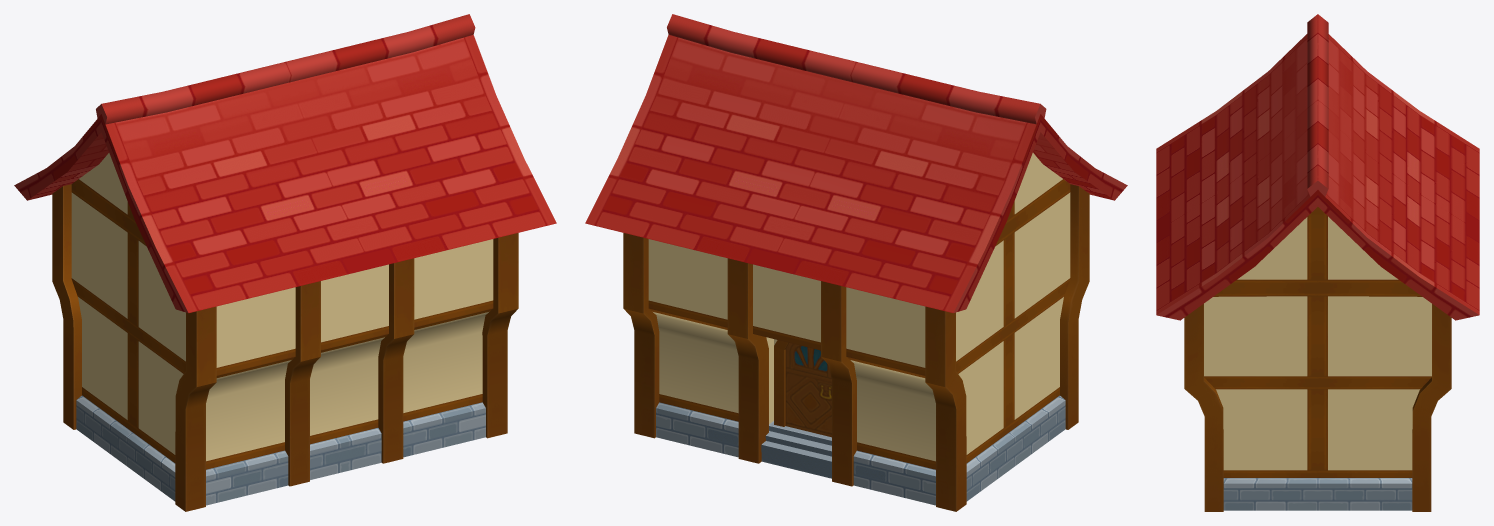
Rendered from HOS0210007.fbx.
The picture shows the model from 3 angles, left to right: view 1: azimuth 30°, elevation 25°; view 2: azimuth 150°, elevation 25°; view 3: azimuth 270°, elevation 25°; orthographic projection. The views are drawn at different scales.
Visible parts, largest first — view 1: smHOS0210007; view 2: smHOS0210007; view 3: smHOS0210007.
Part boxes in pixels (box(x1,y1,x2,y2)): smHOS0210007: box(14, 14, 556, 511); smHOS0210007: box(585, 14, 1127, 511); smHOS0210007: box(1156, 14, 1479, 511).
Bounding box in the file's own units: 849 × 813 × 697.
Materials: 1 (1 with a texture image).
